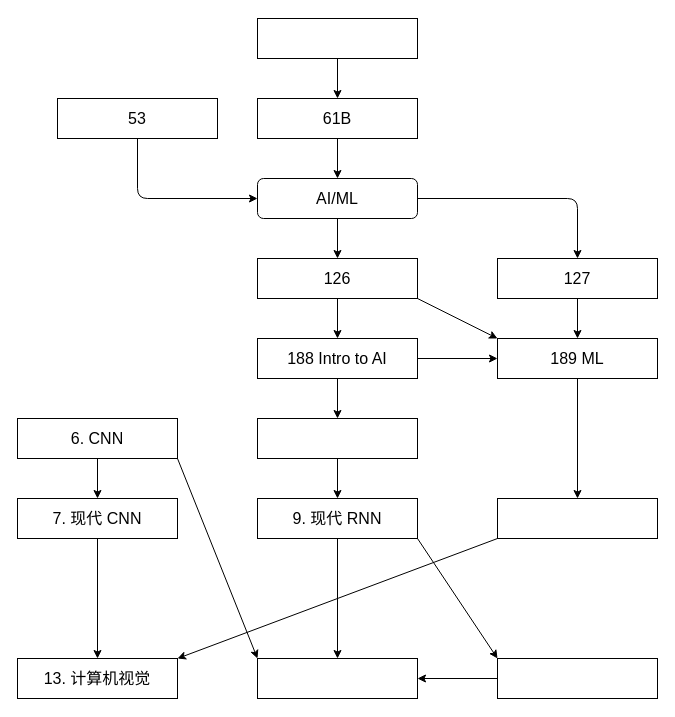
Some shapes in this 675 by 717 pixel diagram are drawn without their labels. Each missing label, with the centre of its shape:
"10. 注意力机制" goes at (x=577, y=678).
"12. 计算性能" goes at (x=577, y=518).
"14-15. 自然语言处理" goes at (x=337, y=678).
"61A" goes at (x=337, y=38).
"8. RNN" goes at (x=337, y=438).
